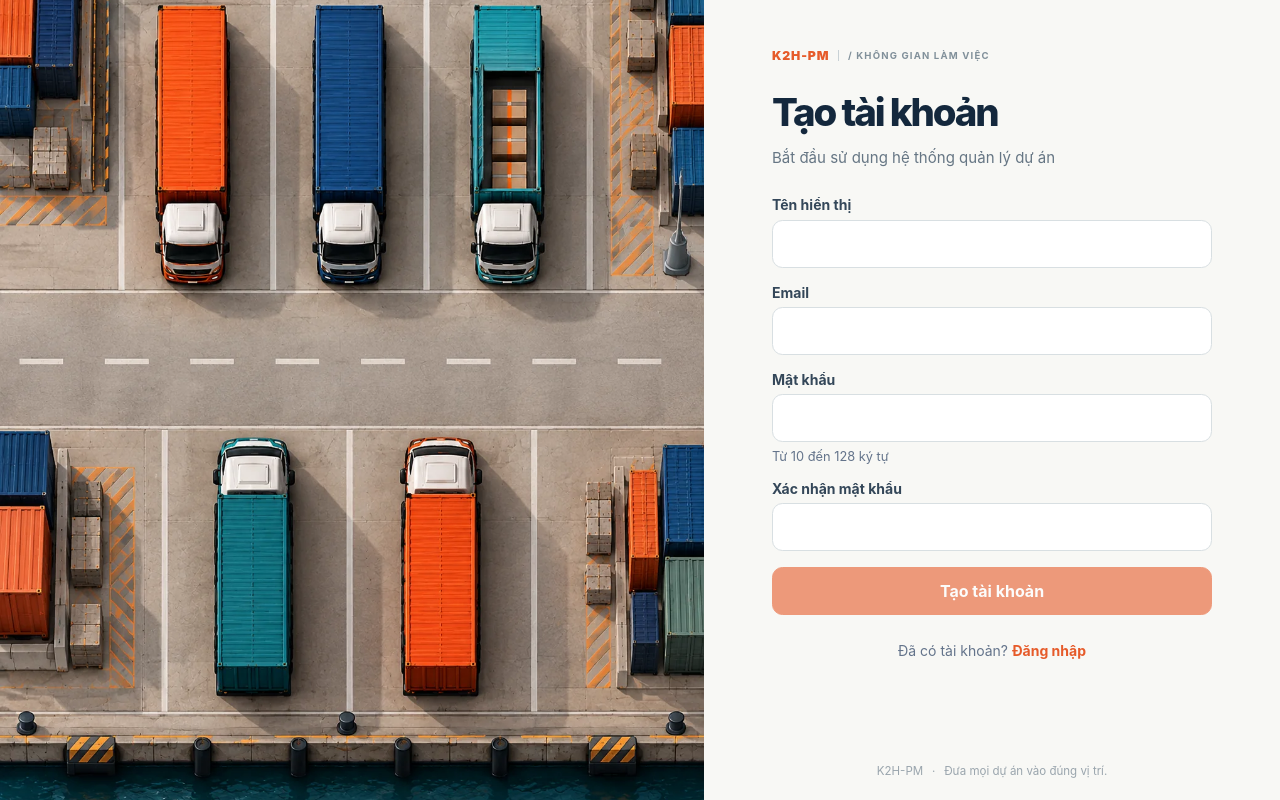
Scenario: RegisterPage › shows a specific message when the email already exists
Type " Nguyen Van A " into the field labelled "Tên hiển thị" at [992, 244], box 772,220 -> 1212,268
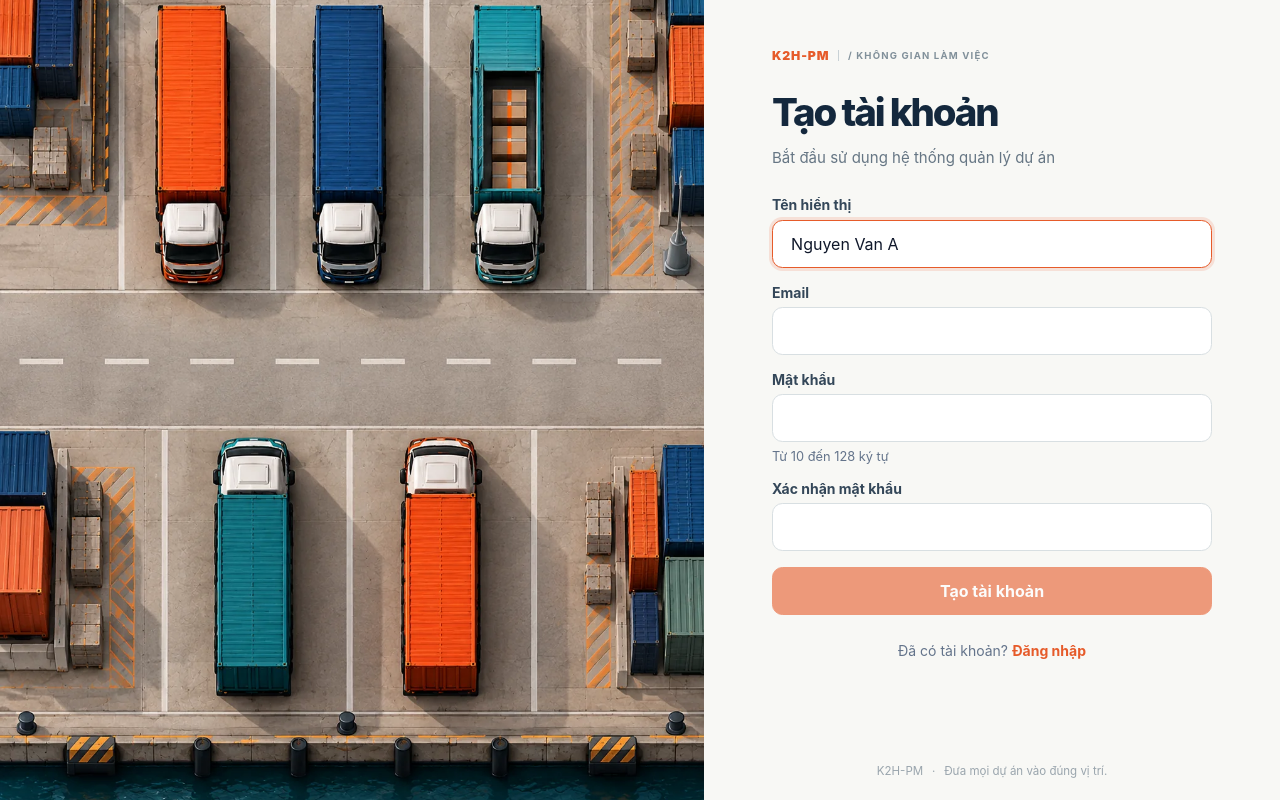
Type " User@Example.com " into the field labelled "Email" at [992, 331], box 772,307 -> 1212,355
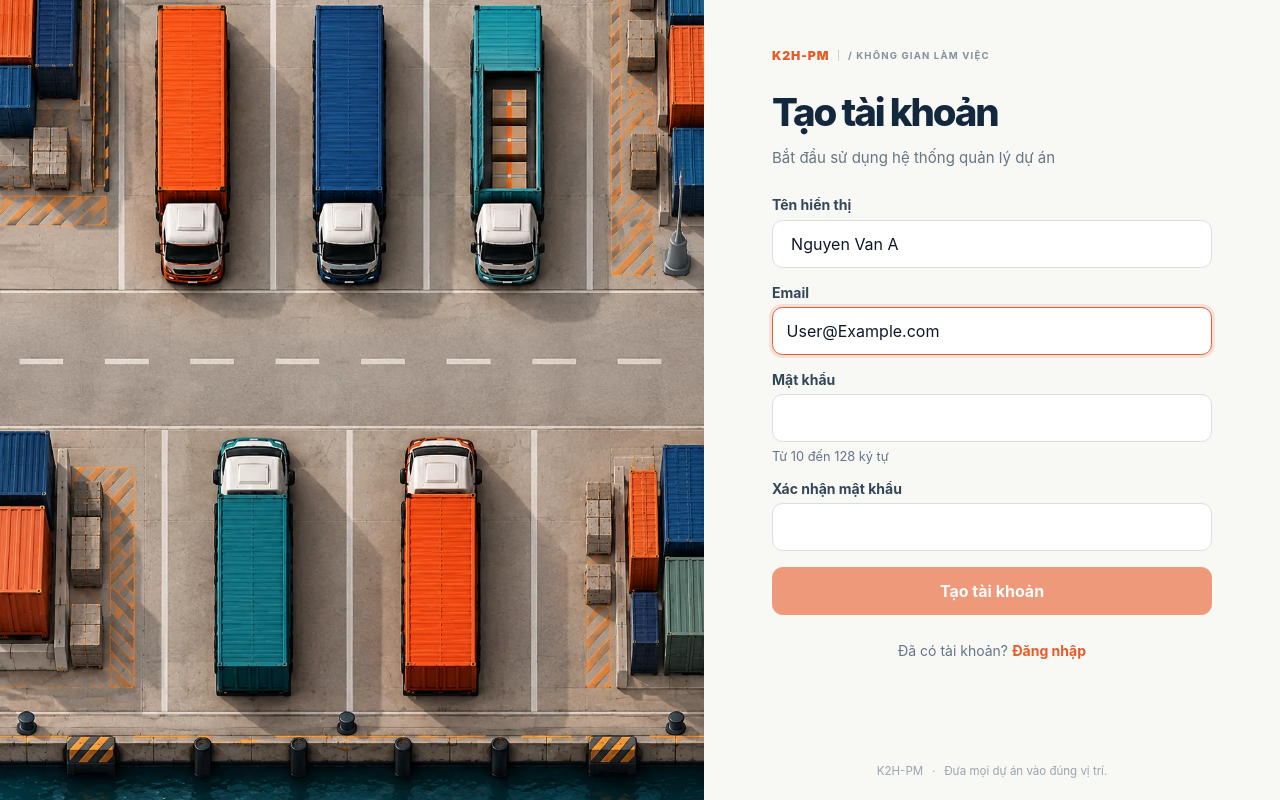
Type " password-123 " into the password field labelled "Mật khẩu" at [992, 418], box 772,394 -> 1212,442
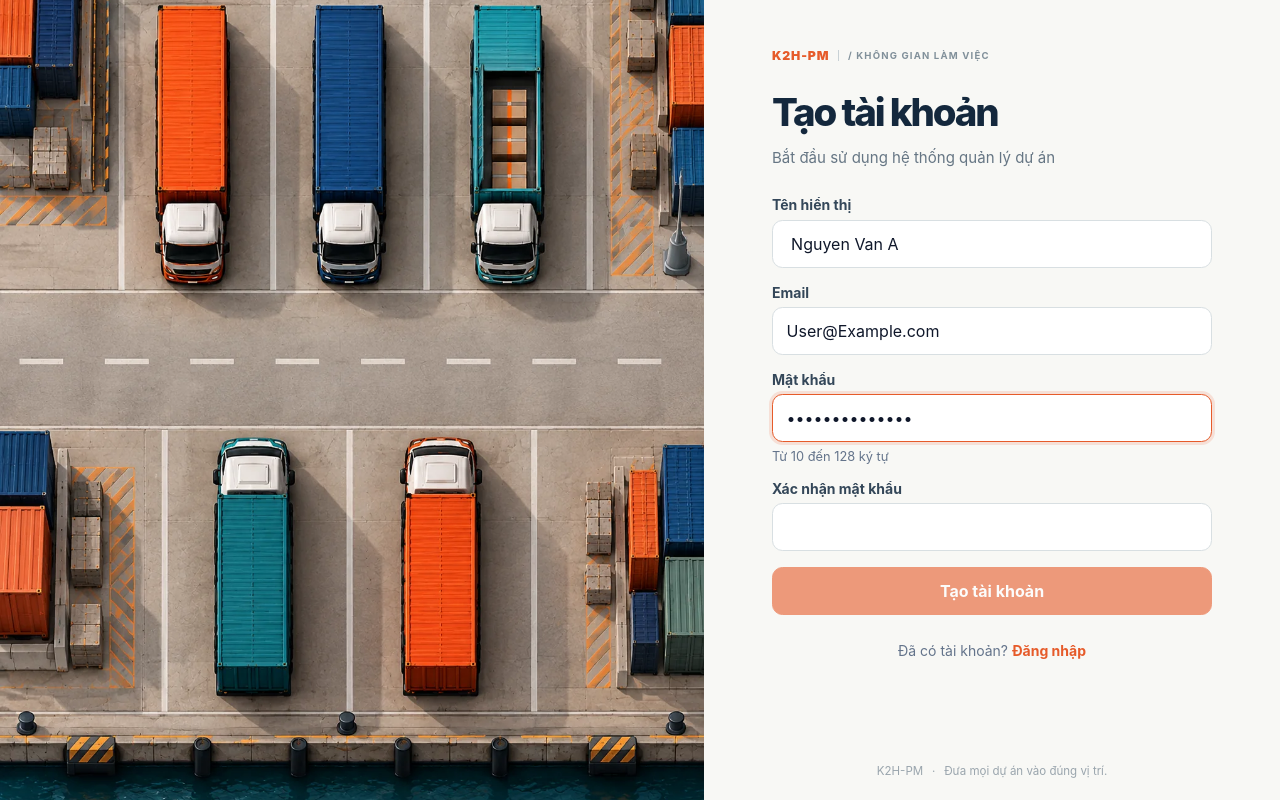
Type " password-123 " into the password field labelled "Xác nhận mật khẩu" at [992, 527], box 772,503 -> 1212,551
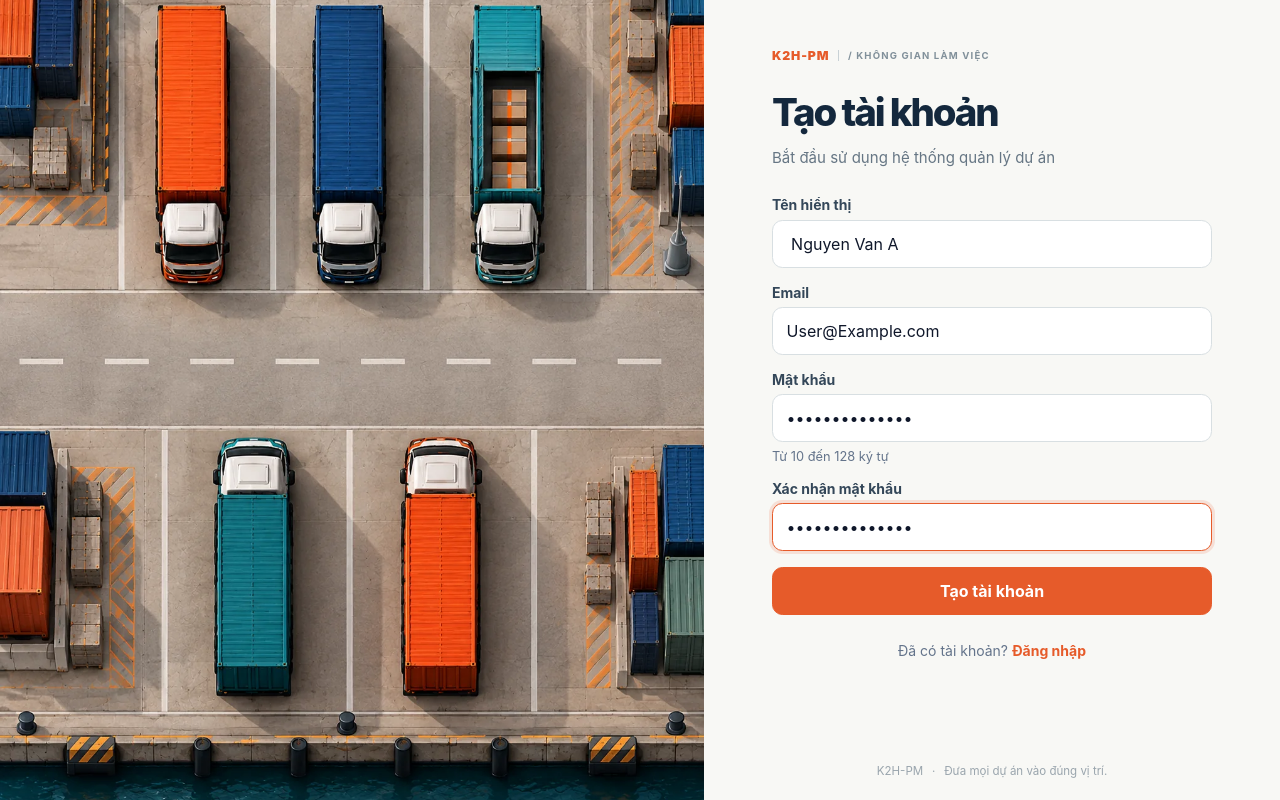
Click the button "Tạo tài khoản" at [992, 591], box 772,567 -> 1212,615
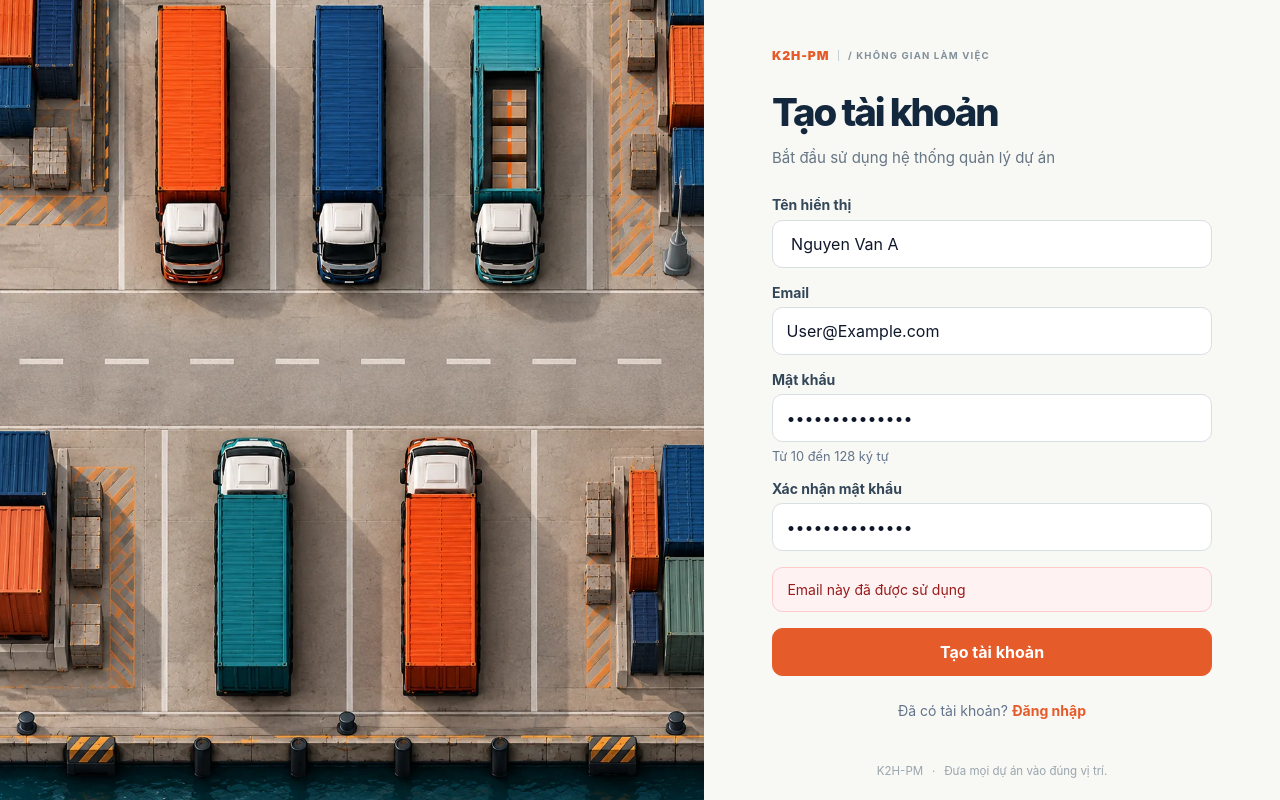
Check: the text "Email này đã được sử dụng" is shown, box 772,567 -> 1212,612
